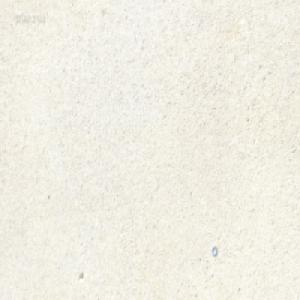Washer: (211, 245, 217, 256)
